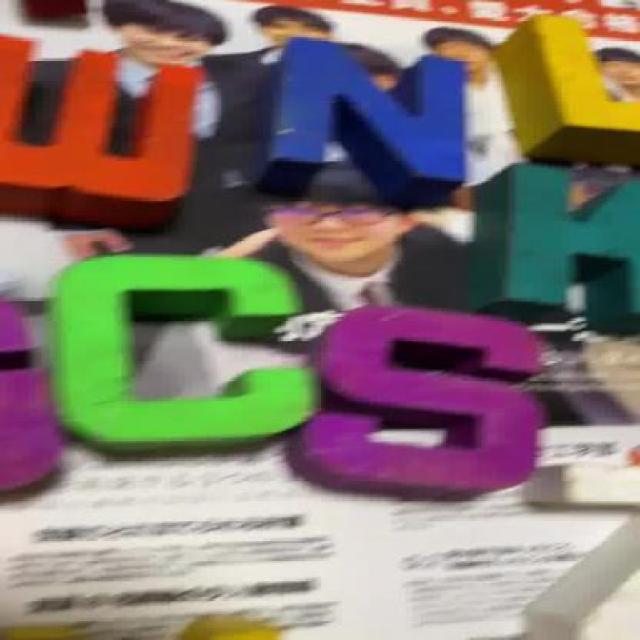C: (44, 255, 305, 454)
N: (252, 38, 473, 191)
S: (324, 301, 539, 507)
